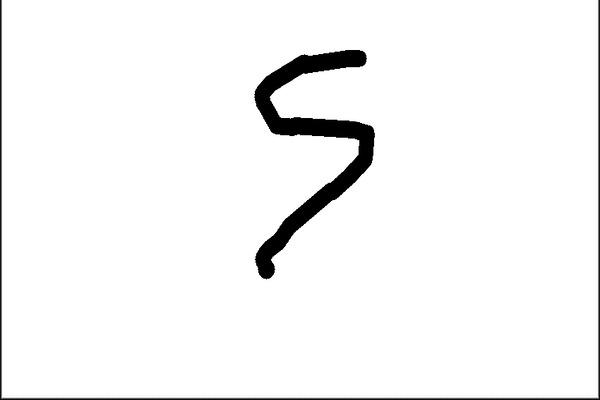S: (248, 43, 382, 281)
